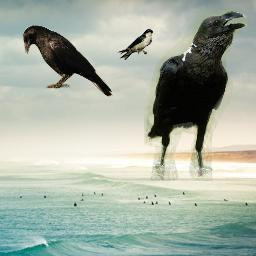Crow: (144, 7, 250, 181), (23, 25, 113, 97)
Swallow: (117, 29, 153, 60)
